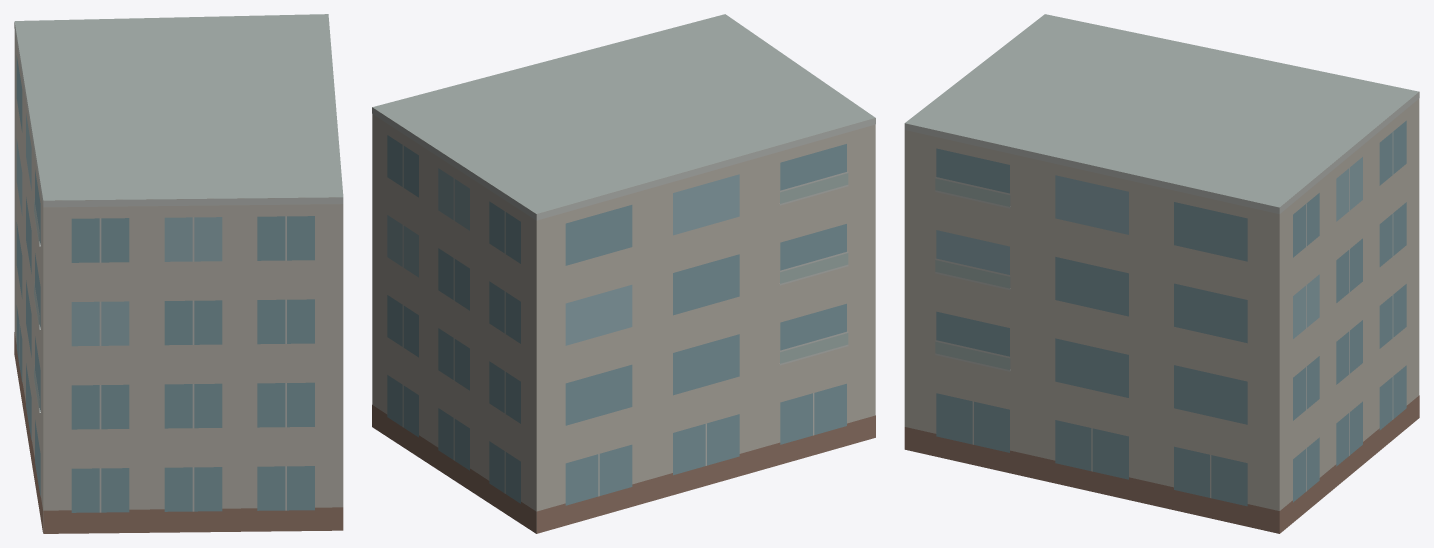
The model's file is survey-upis-32929410.glb.
The picture shows the model from 3 angles, left to right: view 1: azimuth 30°, elevation 25°; view 2: azimuth 150°, elevation 25°; view 3: azimuth 270°, elevation 25°; orthographic projection. The views are drawn at different scales.
Visible parts, largest first — view 1: survey-upis-32929410.tmp; view 2: survey-upis-32929410.tmp; view 3: survey-upis-32929410.tmp.
Part boxes in pixels (left/top/right/bottom): survey-upis-32929410.tmp: left=14, top=14, right=343, bottom=533; survey-upis-32929410.tmp: left=372, top=14, right=875, bottom=533; survey-upis-32929410.tmp: left=904, top=14, right=1419, bottom=533.
Bounding box in the file's own units: 15.15 × 11.9 × 17.02.
